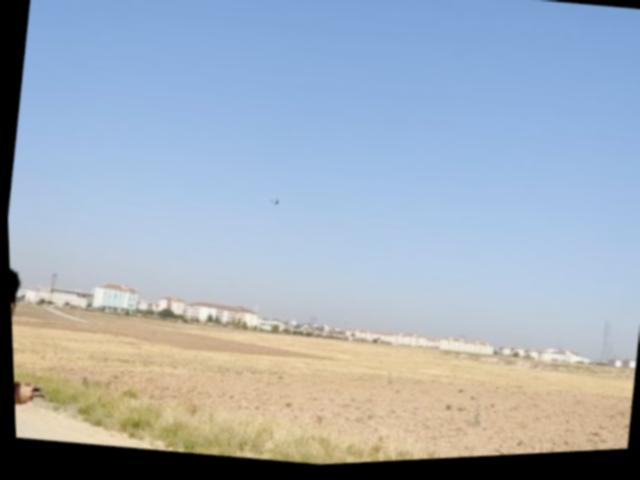uav: (265, 199, 281, 209)
